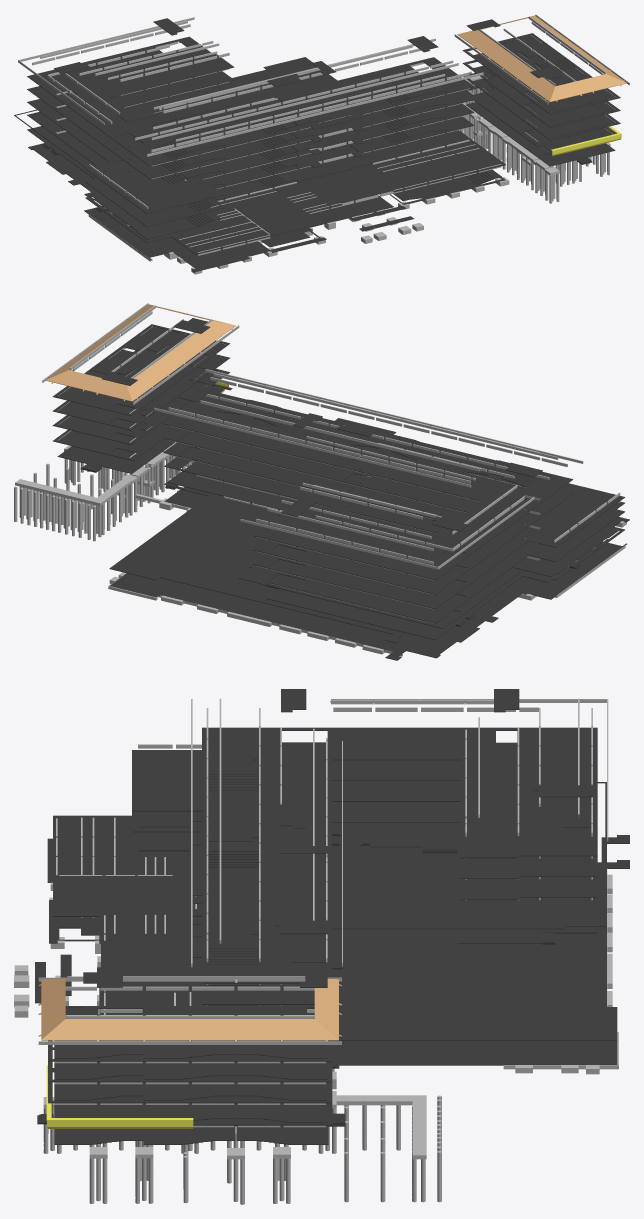
The model's file is teaching-building_2.gltf.
The picture shows the model from 3 angles, top to bottom: view 1: azimuth 30°, elevation 25°; view 2: azimuth 150°, elevation 25°; view 3: azimuth 270°, elevation 25°; orthographic projection. The views are drawn at different scales.
Visible parts, largest first — view 1: 常规 - 150mm [504173], 常规 - 150mm [420707], 常规 - 150mm [464857], 常规 - 150mm [341789], 常规 - 150mm [455611], 常规 - 150mm [480741], 常规 - 150mm [422465], 常规 - 150mm [386630], 常规 - 150mm [604697], 常规 - 120mm 2 [611126], 常规 - 150mm [599917], 常规 - 150mm [603622] (+27 smaller); view 2: 常规 - 150mm [504173], 常规 - 150mm [464857], 常规 - 150mm [386630], 常规 - 150mm [341789], 常规 - 150mm [455611], 常规 - 150mm [480741], 常规 - 150mm [381108], 常规 - 150mm [422465], 常规 - 150mm [604697], 常规 - 120mm 2 [611126], 常规 - 150mm [603622], 常规 - 150mm [602487] (+22 smaller); view 3: 常规 - 150mm [504173], 常规 - 150mm [386630], 常规 - 150mm [420707], 常规 - 150mm [464857], 常规 - 150mm [455611], 常规 - 150mm [341789], 常规 - 150mm [480741], 常规 - 120mm 2 [610959], 常规 - 150mm [381108], 常规 - 150mm [604697], 常规 - 150mm [602487], 常规 - 150mm [603622] (+23 smaller).
Boxes of the visible parts, x1,y1,x2,y2 form: 常规 - 150mm [504173]: (27,36,474,166); 常规 - 150mm [420707]: (85,130,505,254); 常规 - 150mm [464857]: (27,84,474,213); 常规 - 150mm [341789]: (28,143,505,271); 常规 - 150mm [455611]: (14,93,474,226); 常规 - 150mm [480741]: (27,71,474,179); 常规 - 150mm [422465]: (91,130,470,239); 常规 - 150mm [386630]: (84,57,337,196); 常规 - 150mm [604697]: (467,35,615,111); 常规 - 120mm 2 [611126]: (457,30,555,101); 常规 - 150mm [599917]: (466,102,615,166); 常规 - 150mm [603622]: (467,52,614,124); 常规 - 150mm [504173]: (163,391,572,580); 常规 - 150mm [464857]: (163,431,625,609); 常规 - 150mm [386630]: (109,495,553,643); 常规 - 150mm [341789]: (109,487,629,660); 常规 - 150mm [455611]: (164,446,625,628); 常规 - 150mm [480741]: (163,412,572,594); 常规 - 150mm [381108]: (266,574,514,640); 常规 - 150mm [422465]: (168,461,620,576); 常规 - 150mm [604697]: (58,326,215,413); 常规 - 120mm 2 [611126]: (126,320,235,401); 常规 - 150mm [603622]: (58,346,217,427); 常规 - 150mm [602487]: (58,365,217,442); 常规 - 150mm [504173]: (190,727,597,983); 常规 - 150mm [386630]: (332,822,629,1040); 常规 - 150mm [420707]: (53,815,332,1015); 常规 - 150mm [464857]: (132,750,597,1018); 常规 - 150mm [455611]: (132,782,606,1014); 常规 - 150mm [341789]: (47,838,629,1065); 常规 - 150mm [480741]: (190,760,597,1004); 常规 - 120mm 2 [610959]: (41,1019,338,1041); 常规 - 150mm [381108]: (370,822,597,943); 常规 - 150mm [604697]: (54,1007,328,1058); 常规 - 150mm [602487]: (54,1061,328,1100); 常规 - 150mm [603622]: (54,1045,328,1079).
Size of the model in its own units: 156 by 37 by 113.
